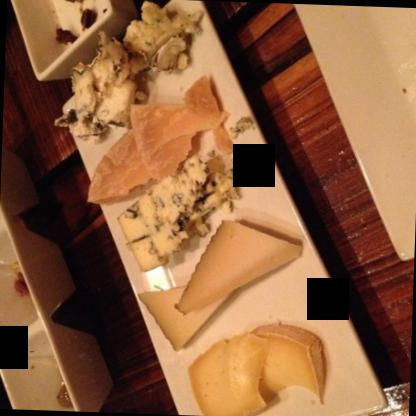parmesan cheese: (187, 314, 330, 415), (178, 221, 302, 316), (140, 268, 231, 350)
